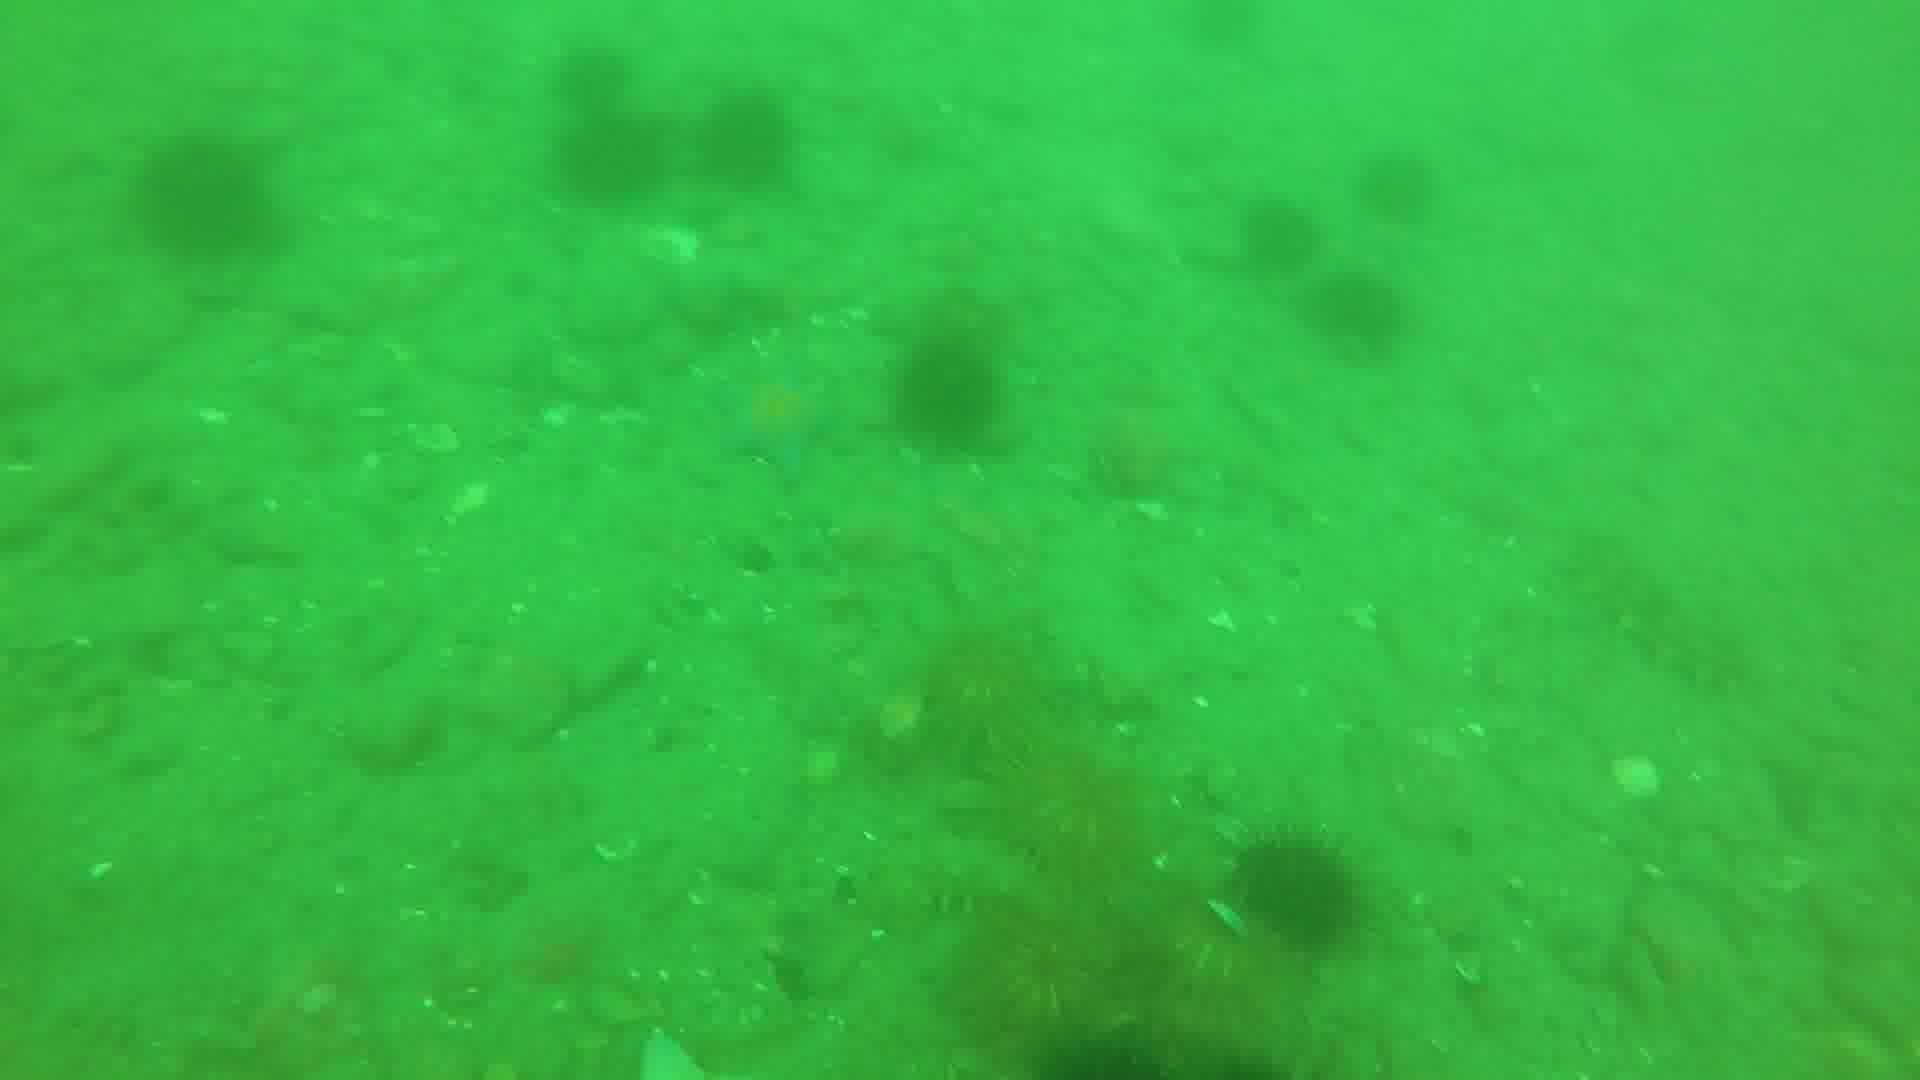echinus: (996, 711, 1153, 894), (945, 931, 1114, 1058), (129, 127, 268, 251), (1226, 831, 1357, 951), (884, 326, 1002, 429), (686, 87, 798, 171), (1298, 272, 1400, 347), (1369, 137, 1443, 239), (549, 120, 653, 185), (1245, 193, 1328, 272), (547, 44, 644, 98), (1201, 1, 1288, 47)
holothurian: (1559, 524, 1760, 694)
scallop: (878, 682, 928, 746), (1618, 753, 1673, 810), (644, 229, 705, 268)
starfish: (698, 357, 847, 483)
